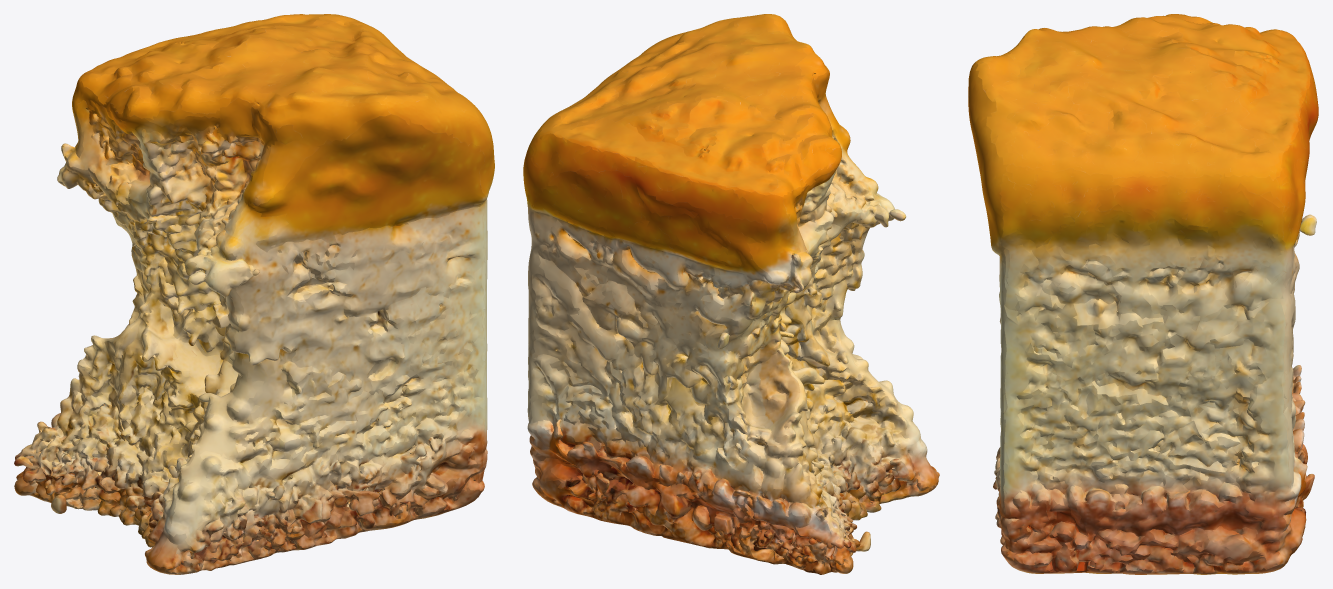
The picture shows the model from 3 angles, left to right: view 1: azimuth 30°, elevation 25°; view 2: azimuth 150°, elevation 25°; view 3: azimuth 270°, elevation 25°; orthographic projection. The views are drawn at different scales.
Visible parts, largest first — view 1: FoodRedoV2Alignment-0; view 2: FoodRedoV2Alignment-0; view 3: FoodRedoV2Alignment-0.
Boxes of the visible parts, left/top/right/bottom form: FoodRedoV2Alignment-0: left=14, top=14, right=494, bottom=574; FoodRedoV2Alignment-0: left=523, top=14, right=939, bottom=574; FoodRedoV2Alignment-0: left=968, top=14, right=1318, bottom=574.
Size of the model in its own units: 0.0612 by 0.074 by 0.0504.
1 material, 1 textured.
